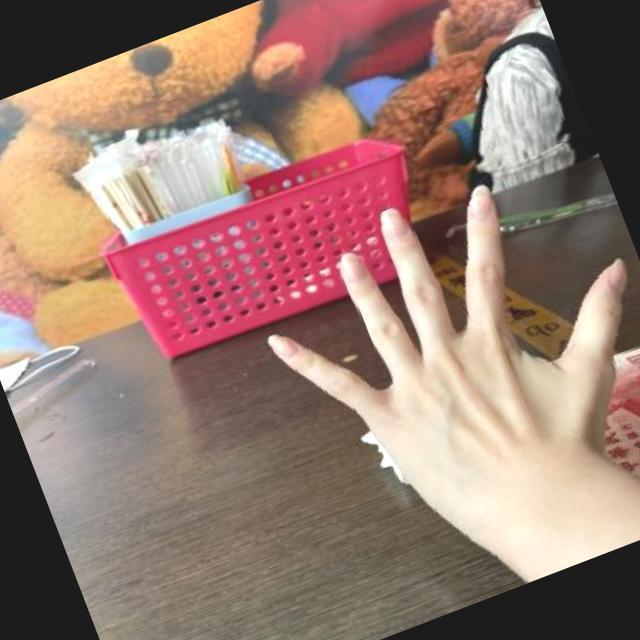hand: (222, 121, 640, 565)
